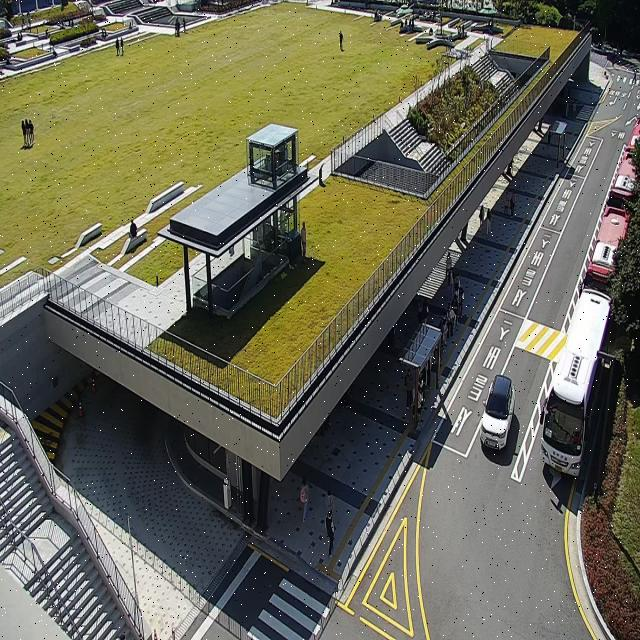queue: (413, 267, 462, 441)
